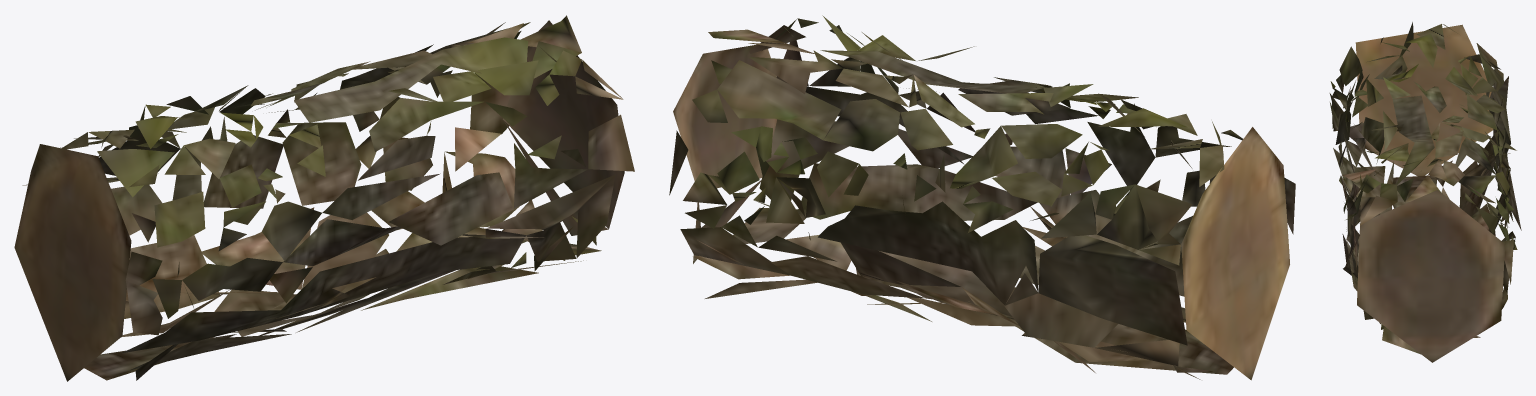
The model's file is wald_baumstamm_lo.glb.
The picture shows the model from 3 angles, left to right: view 1: azimuth 30°, elevation 25°; view 2: azimuth 150°, elevation 25°; view 3: azimuth 270°, elevation 25°; orthographic projection. The views are drawn at different scales.
Visible parts, largest first — view 1: Prop; view 2: Prop; view 3: Prop.
Boxes of the visible parts, x1=… form: Prop: x1=14, y1=15, x2=634, y2=381; Prop: x1=669, y1=15, x2=1295, y2=380; Prop: x1=1329, y1=22, x2=1521, y2=362.
Size of the model in its own units: 2.38 by 1.16 by 1.06.
Materials: 1 (1 with a texture image).
